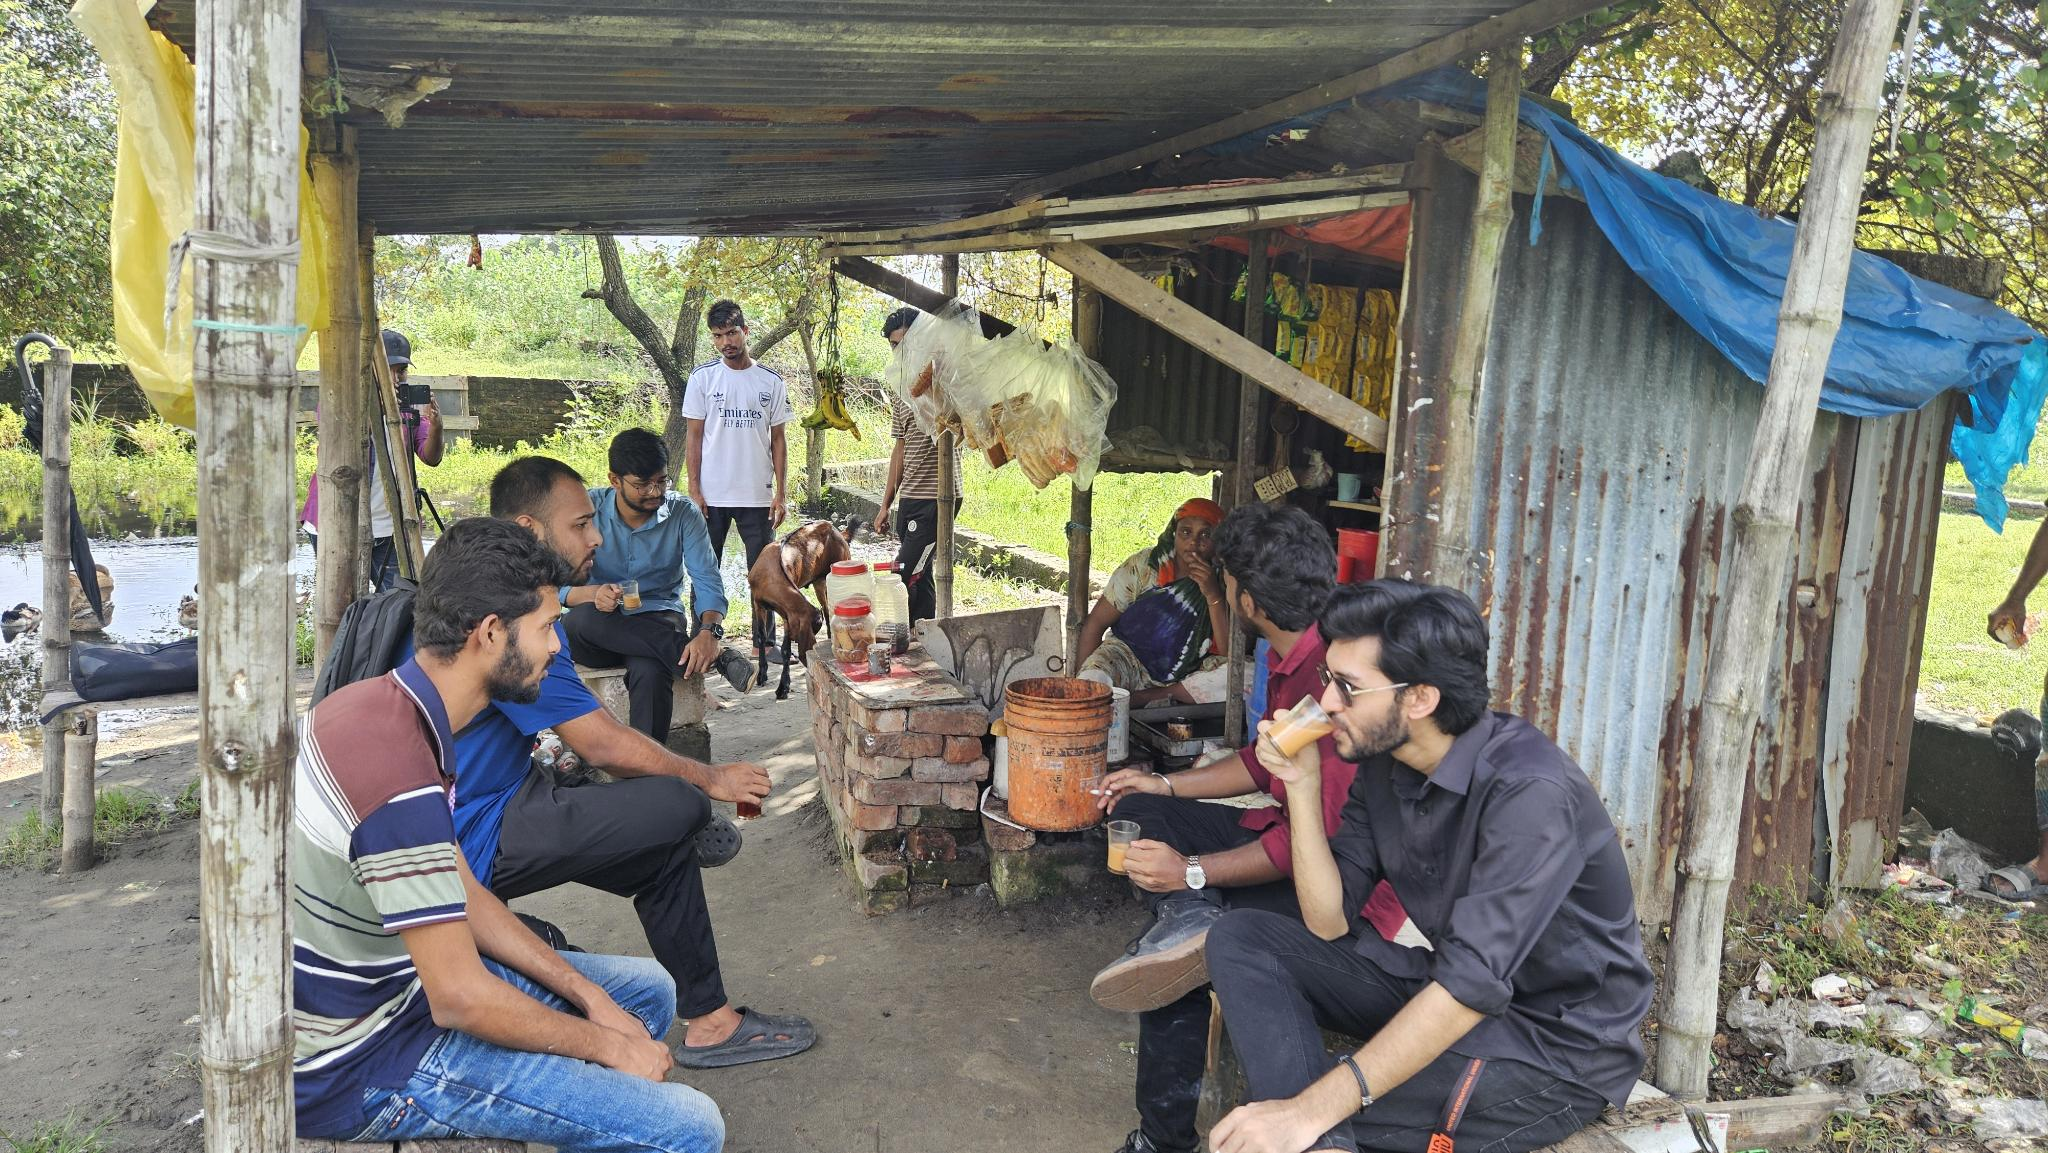cigarette: (1087, 787, 1115, 797)
nonSmoker: (309, 456, 816, 1071), (291, 519, 726, 1153), (1205, 579, 1654, 1153), (560, 429, 760, 741), (681, 299, 799, 665), (1077, 501, 1227, 706)
smoker: (1090, 499, 1348, 1153)
